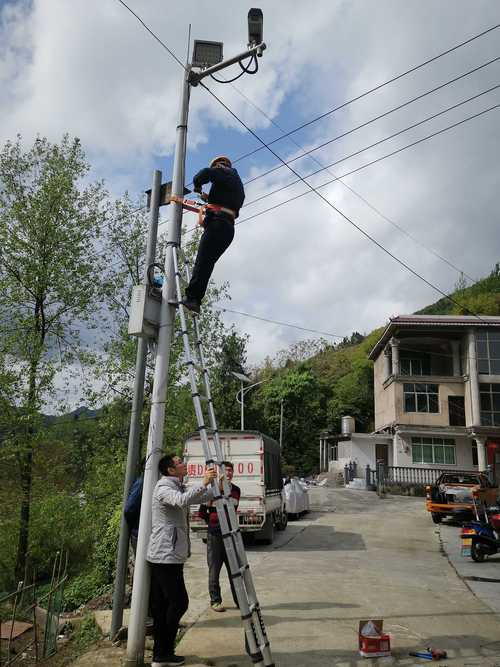安全帽、工作服均未穿戴的工作人员: (122, 450, 218, 666), (195, 459, 251, 613)
